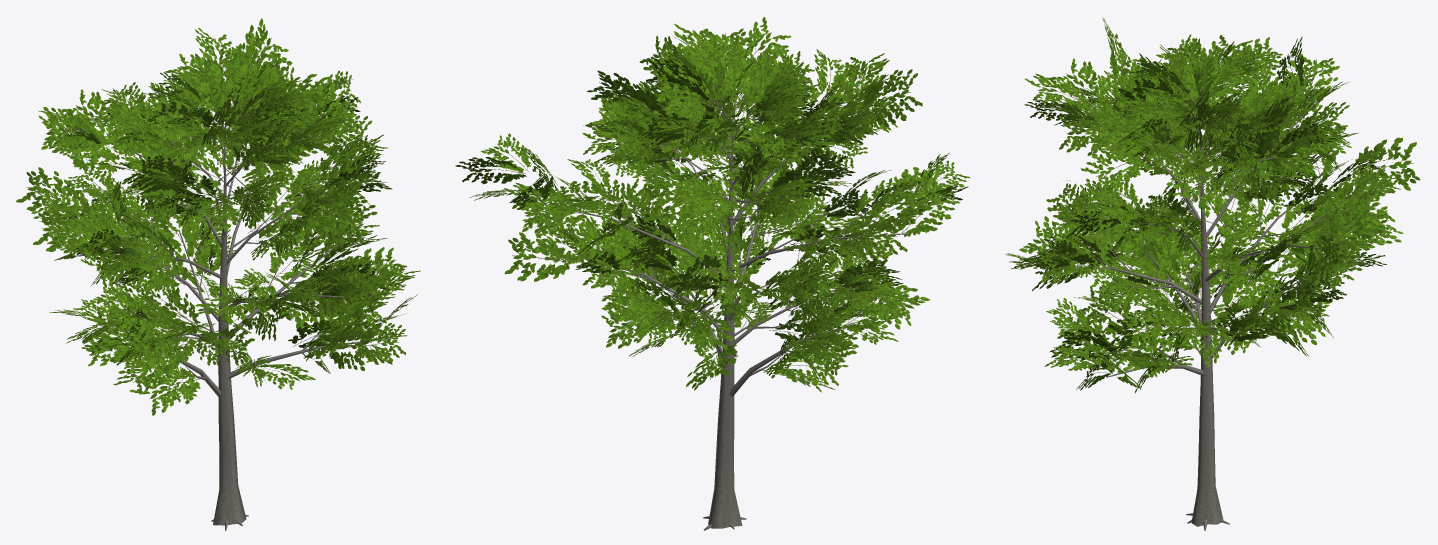
Rendered from AmericanBeech.fbx.
3 renders of one model, left to right at view 1: azimuth 30°, elevation 25°; view 2: azimuth 150°, elevation 25°; view 3: azimuth 270°, elevation 25°, orthographic. The views are drawn at different scales.
Parts seen in each view (by area): view 1: Foliage, Bark; view 2: Foliage, Bark; view 3: Foliage, Bark.
Part boxes in pixels (x1,y1,x2,y2): Foliage: [16, 18, 420, 415]; Bark: [74, 98, 378, 530]; Foliage: [455, 17, 970, 392]; Bark: [543, 97, 908, 530]; Foliage: [1005, 17, 1419, 393]; Bark: [1076, 96, 1337, 530].
Size of the model in its own units: 19.92 by 22.25 by 18.59.
